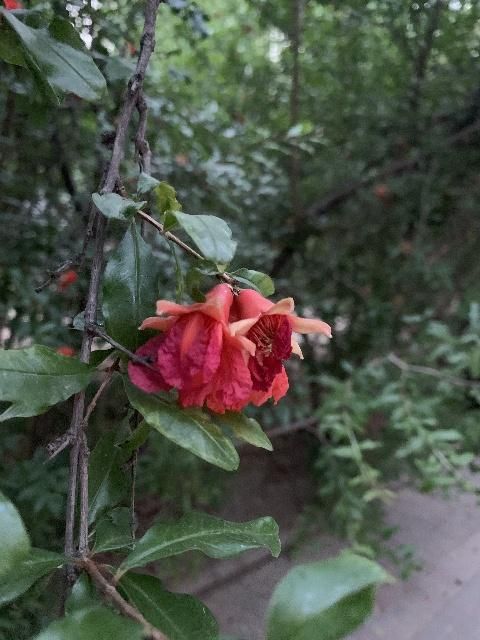flower: (128, 283, 259, 413), (228, 289, 332, 405), (2, 0, 24, 10)
